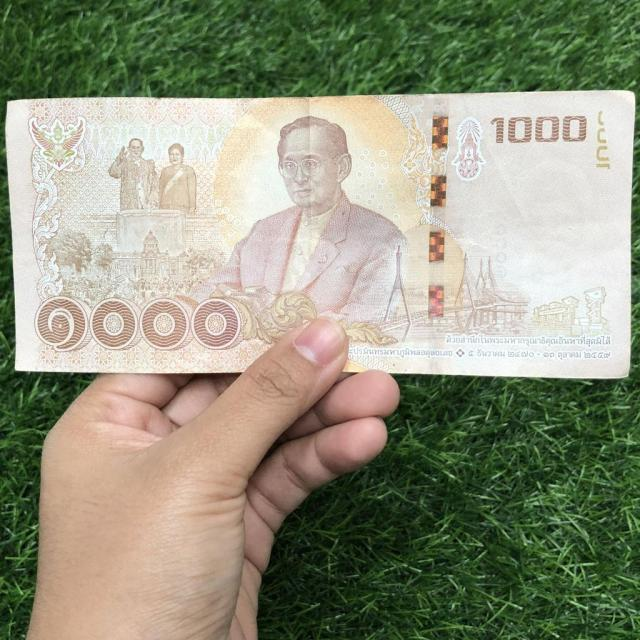THAI1000: (8, 91, 635, 378)
